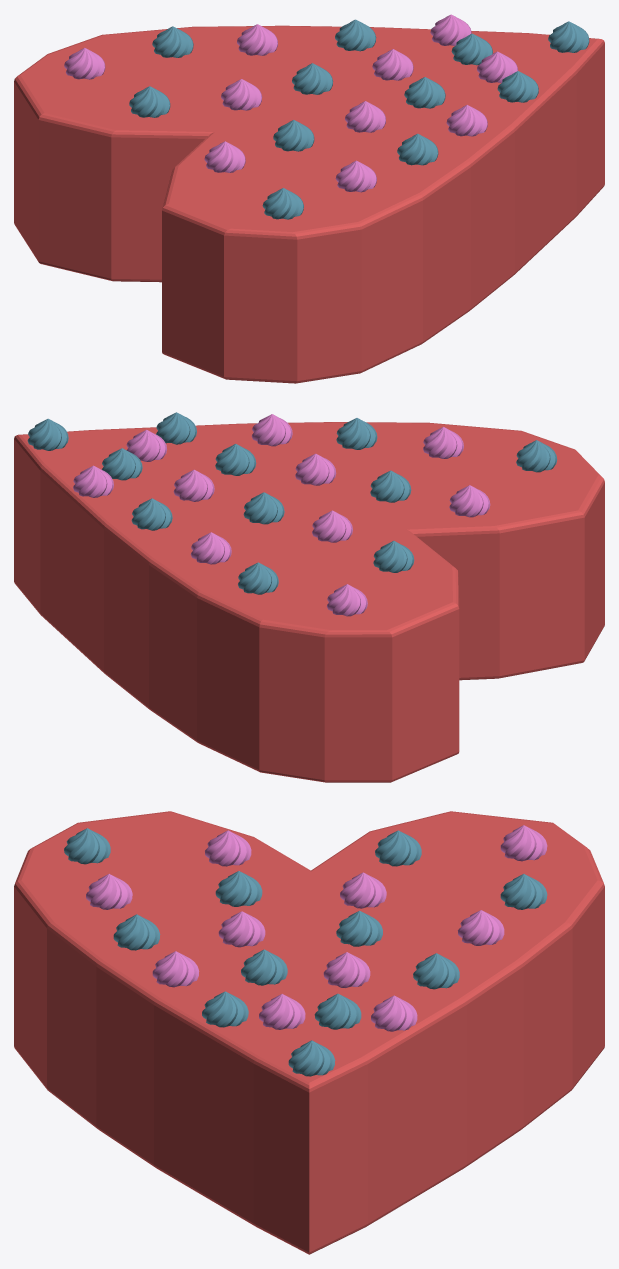
File: cake12.fbx
3 views of the same model, one above another, from view 1: azimuth 30°, elevation 25°; view 2: azimuth 150°, elevation 25°; view 3: azimuth 270°, elevation 25° (orthographic). The views are drawn at different scales.
Parts seen in each view (by area): view 1: p1, p2, p4, p9, p5, p7, p3, p6, p11, p8, p10; view 2: p2, p1, p3, p10, p6, p8, p4, p5, p11, p7, p9; view 3: p9, p10, p11, p6, p5, p4, p7, p8, p3, p2, p1.
Part boxes in pixels (left/top/right/bottom): p1: left=162, top=128, right=361, bottom=383; p2: left=14, top=35, right=229, bottom=282; p4: left=231, top=110, right=422, bottom=372; p9: left=446, top=50, right=576, bottom=274; p5: left=307, top=93, right=470, bottom=342; p7: left=377, top=76, right=514, bottom=309; p3: left=102, top=26, right=306, bottom=128; p6: left=192, top=24, right=375, bottom=109; p11: left=529, top=21, right=604, bottom=216; p8: left=284, top=19, right=445, bottom=92; p10: left=379, top=14, right=551, bottom=75; p2: left=259, top=525, right=459, bottom=782; p1: left=392, top=431, right=604, bottom=680; p3: left=197, top=506, right=390, bottom=771; p10: left=40, top=446, right=173, bottom=672; p6: left=149, top=489, right=313, bottom=741; p8: left=104, top=469, right=243, bottom=708; p4: left=314, top=423, right=521, bottom=525; p5: left=244, top=418, right=429, bottom=506; p11: left=14, top=418, right=89, bottom=614; p7: left=175, top=414, right=336, bottom=489; p9: left=67, top=412, right=240, bottom=472; p9: left=154, top=991, right=309, bottom=1225; p10: left=309, top=993, right=466, bottom=1226; p11: left=253, top=1040, right=367, bottom=1254; p6: left=309, top=910, right=572, bottom=1127; p5: left=47, top=911, right=309, bottom=1128; p4: left=14, top=871, right=309, bottom=1089; p7: left=96, top=949, right=309, bottom=1166; p8: left=309, top=952, right=523, bottom=1166; p3: left=309, top=872, right=604, bottom=1089; p2: left=310, top=811, right=603, bottom=882; p1: left=15, top=811, right=310, bottom=882.
Bounding box in the file's own units: 9.04 × 3 × 8.12.
